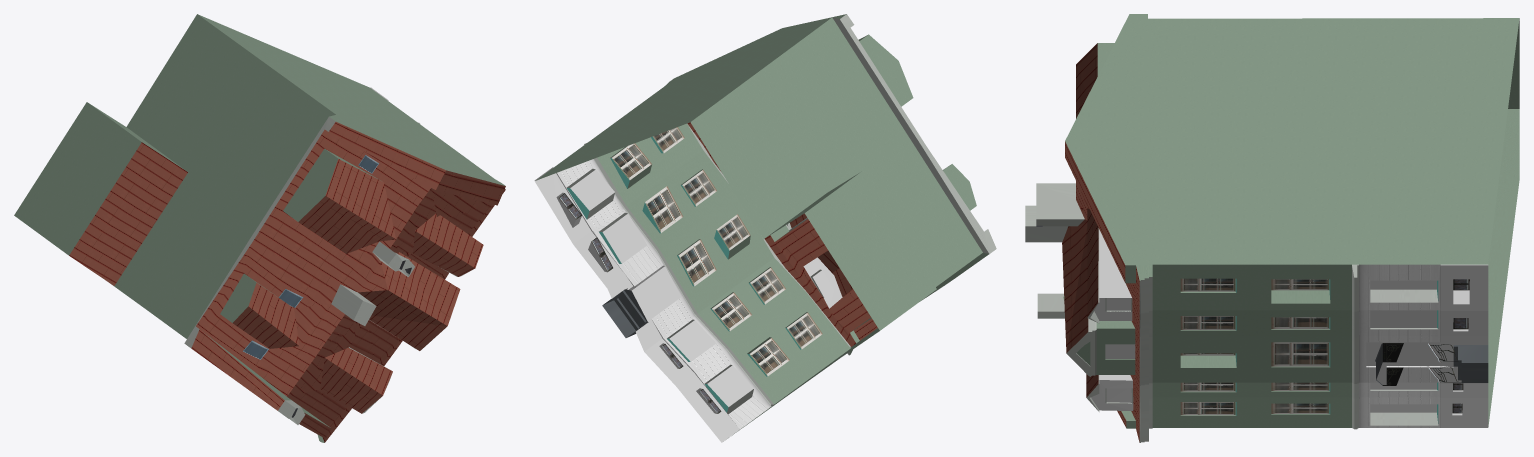
File: Myyrivahe_23a-origo.obj
The picture shows the model from 3 angles, left to right: view 1: azimuth 30°, elevation 25°; view 2: azimuth 150°, elevation 25°; view 3: azimuth 270°, elevation 25°; orthographic projection. The views are drawn at different scales.
Visible parts, largest first — view 1: Myyrivahe23A; view 2: Myyrivahe23A; view 3: Myyrivahe23A.
Boxes of the visible parts, x1,y1,x2,y2 form: Myyrivahe23A: [14, 14, 505, 442]; Myyrivahe23A: [534, 14, 996, 442]; Myyrivahe23A: [1025, 14, 1519, 442].
Bounding box in the file's own units: 21.06 × 18.5 × 19.1.
